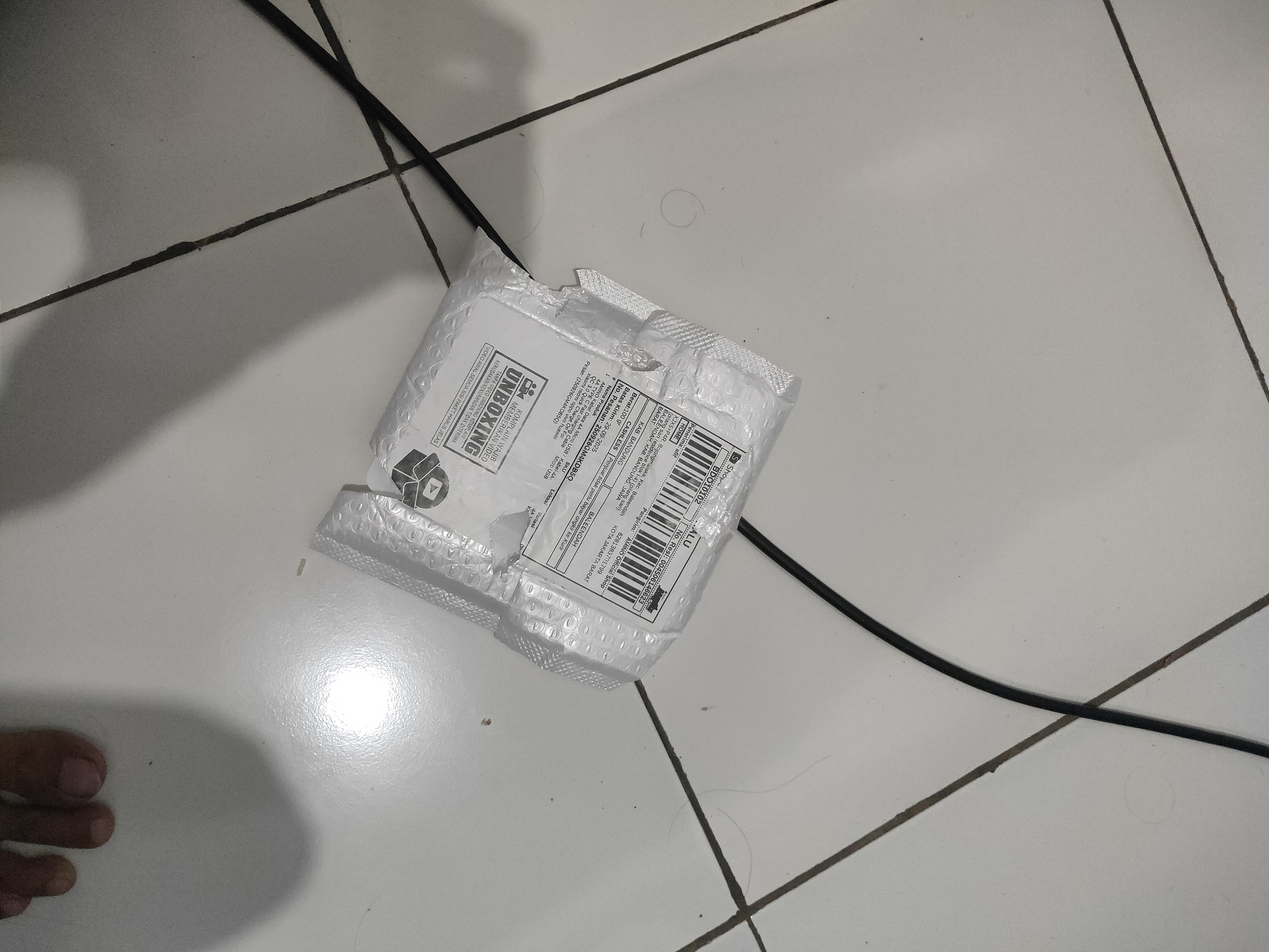damaged package: (478, 228, 593, 322), (690, 444, 754, 558), (483, 503, 537, 583), (343, 442, 407, 505), (612, 342, 667, 375)
undamaged: (299, 224, 810, 707)
